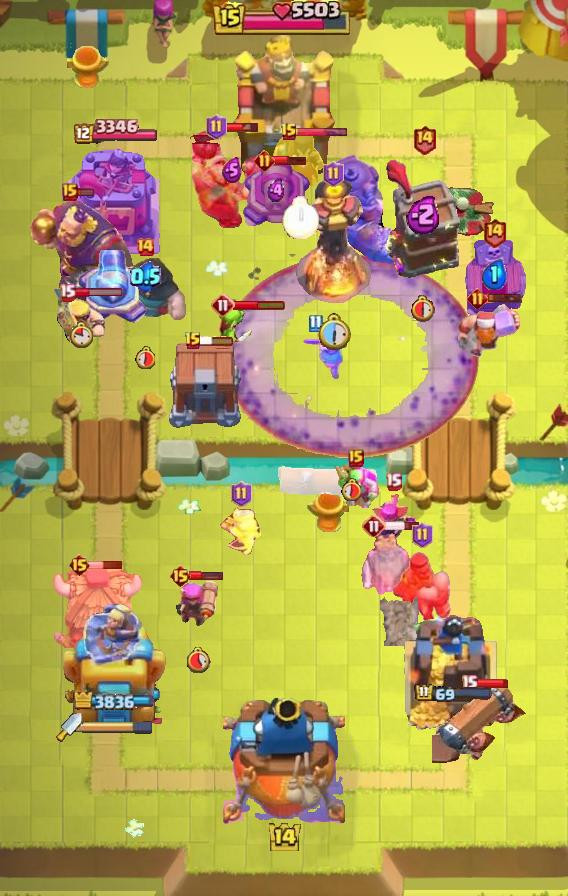arrows: (49, 290, 105, 343)
bar: (59, 595, 169, 731)
battle-healer: (432, 682, 530, 764)
bomb: (166, 343, 244, 429)
cannon: (218, 504, 264, 556)
clock: (213, 0, 355, 38)
dart-goblin: (385, 160, 463, 280)
electro-dragon: (294, 177, 372, 303)
electro-spirit: (406, 194, 442, 234), (130, 261, 161, 292), (481, 259, 507, 290), (222, 157, 242, 183), (266, 178, 285, 203)
elite-barbarian: (392, 551, 452, 625)
elixir: (281, 197, 319, 240), (316, 313, 351, 351), (411, 294, 437, 322), (185, 646, 211, 673), (70, 321, 94, 348), (341, 478, 361, 502), (135, 347, 155, 370)
elixir-golem-mid: (459, 238, 529, 324)
emote: (233, 299, 286, 311), (296, 126, 348, 137), (72, 287, 123, 298), (485, 292, 523, 304), (384, 520, 421, 532), (199, 335, 235, 347), (224, 121, 259, 133), (272, 154, 308, 165), (188, 570, 224, 581), (475, 679, 509, 690), (89, 560, 124, 570), (76, 187, 95, 197)
evolution-symbol: (366, 490, 420, 548)
fisherman: (380, 596, 420, 646)
giant-snowball: (332, 460, 380, 508)
hog-rider: (301, 327, 349, 381)
king-tower: (223, 698, 345, 826), (231, 35, 337, 182)
king-tower-bar: (82, 720, 154, 734)
lightning: (26, 197, 138, 309)
mighty-miner: (455, 302, 523, 358)
minion: (275, 466, 379, 500)
mortar-evolution: (360, 531, 416, 597)
prince: (49, 565, 143, 655)
queen-tower: (403, 613, 506, 731), (64, 146, 164, 256)
rascal-boy: (271, 129, 329, 201)
rocket: (223, 254, 479, 458)
royal-guardian: (188, 127, 276, 231)
royal-hog: (99, 253, 191, 325)
royal-recruit: (76, 245, 150, 329), (240, 158, 312, 232)
selected: (71, 118, 157, 145), (414, 684, 494, 705), (73, 692, 155, 710)
text: (481, 217, 506, 248), (412, 125, 437, 155), (211, 293, 235, 317), (362, 514, 386, 538), (68, 553, 91, 577), (168, 564, 191, 588), (206, 114, 227, 140), (323, 161, 344, 187), (231, 481, 252, 507), (412, 522, 433, 548), (254, 149, 275, 170), (467, 287, 488, 308), (135, 237, 155, 257), (280, 122, 298, 142), (184, 331, 202, 351), (385, 472, 403, 491), (59, 283, 76, 301), (462, 675, 479, 693), (62, 183, 78, 201), (348, 449, 364, 467), (309, 315, 323, 333)
tombstone: (176, 576, 221, 626)
wizard: (322, 153, 404, 267)
zap: (218, 305, 254, 343)
